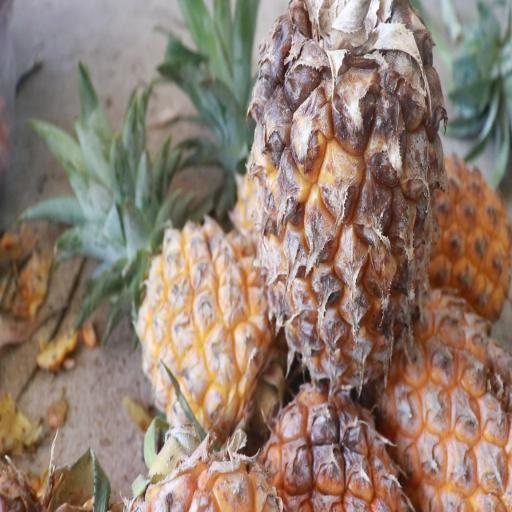Pineapple - v8 v1: (243, 0, 446, 393), (136, 99, 296, 427), (380, 269, 512, 507)
